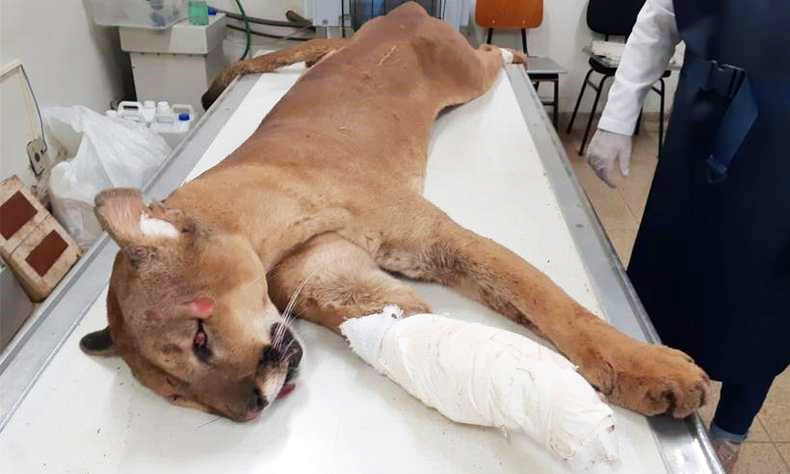OncaParda: (88, 10, 719, 446)
